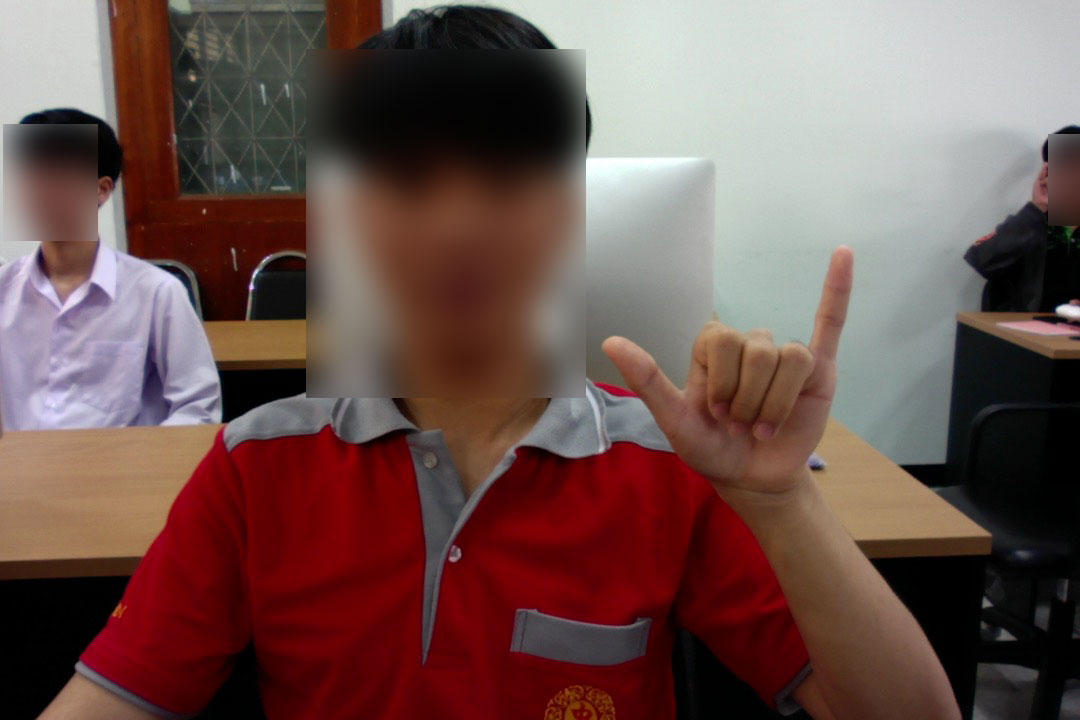yor: (597, 238, 868, 511)
